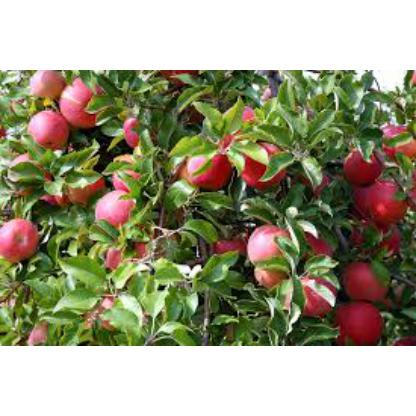apple: (230, 141, 288, 189), (279, 272, 341, 316), (338, 258, 390, 300), (183, 149, 237, 189), (363, 175, 405, 223), (332, 298, 382, 336), (250, 224, 292, 266), (60, 75, 100, 117), (340, 142, 382, 182), (0, 219, 37, 260), (95, 187, 131, 227), (27, 111, 67, 145), (29, 69, 60, 97)
